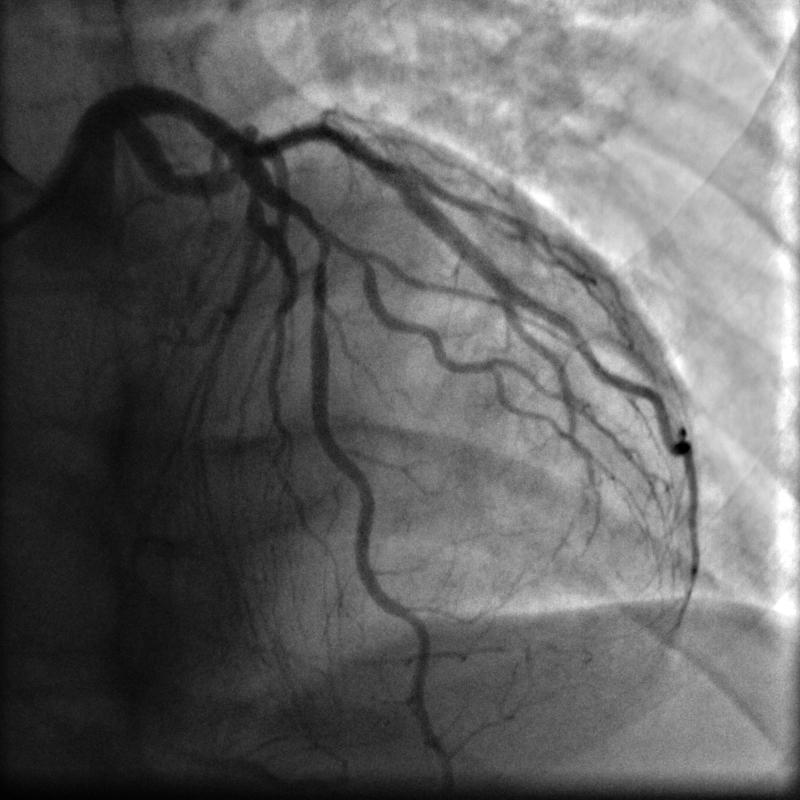Stenosis: (307, 227, 331, 300)
